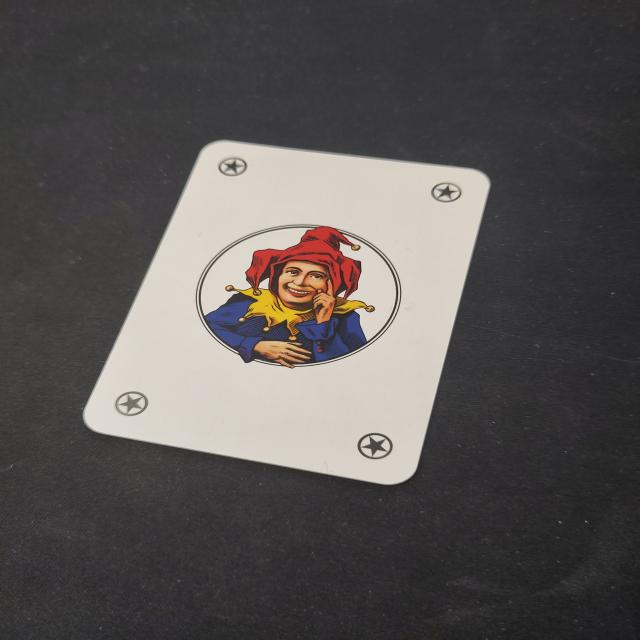J: (348, 426, 399, 466), (102, 387, 154, 422), (211, 149, 254, 187), (422, 181, 468, 210)
